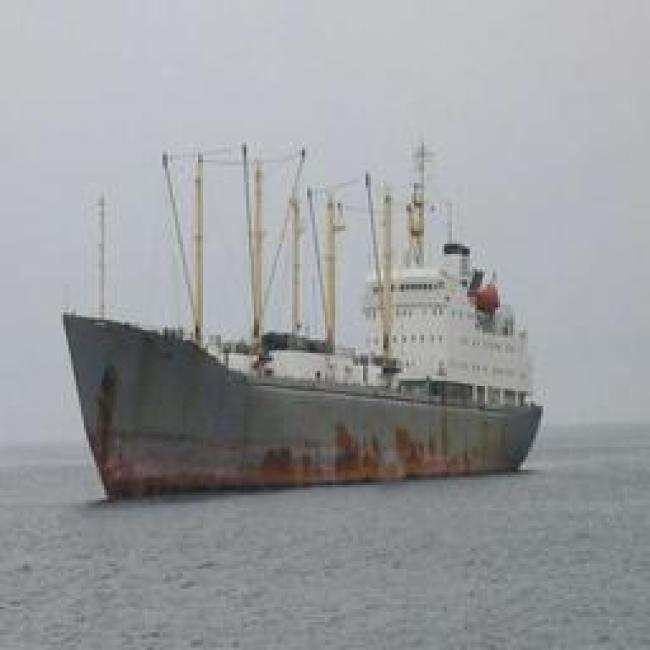Ship: (80, 168, 546, 489)
